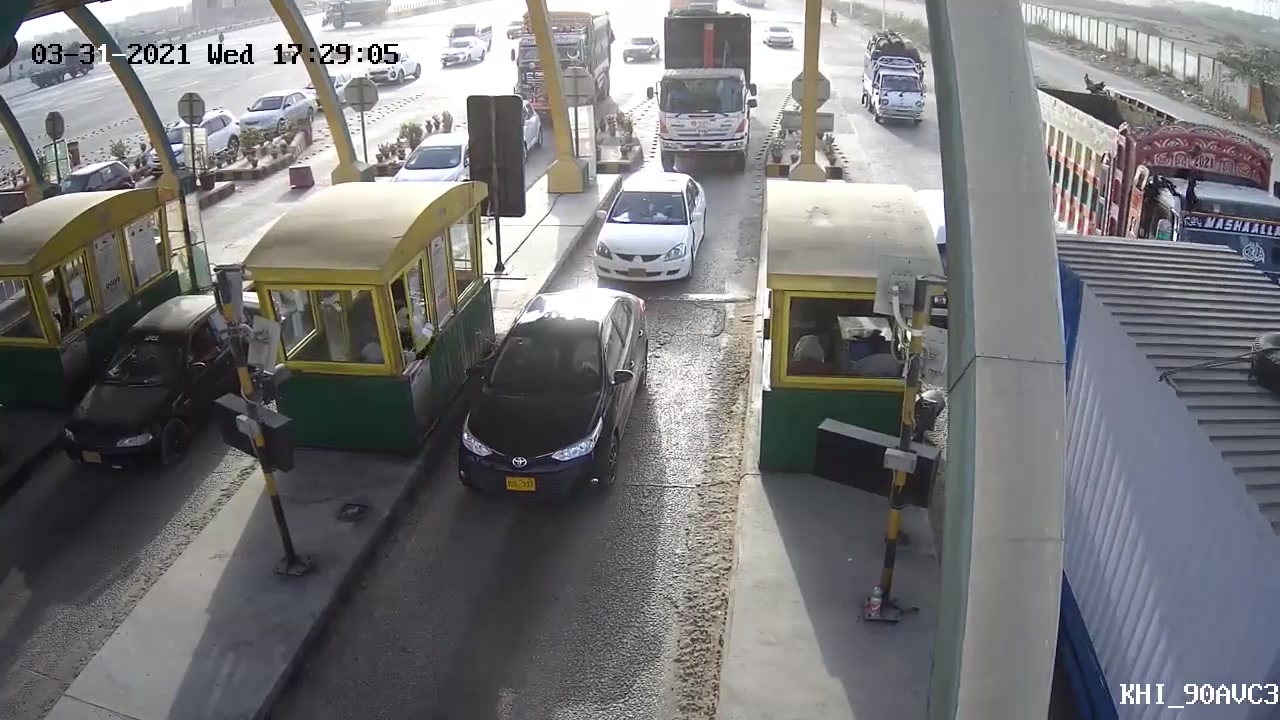F1: (453, 278, 655, 503)
